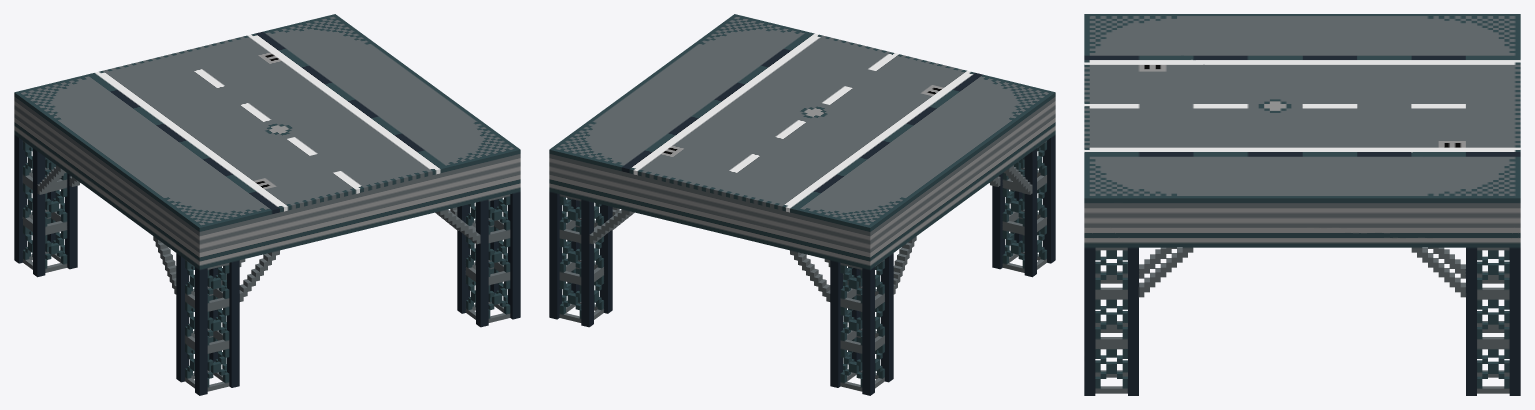
File: bridge_legs.glb
3 renders of one model, left to right at view 1: azimuth 30°, elevation 25°; view 2: azimuth 150°, elevation 25°; view 3: azimuth 270°, elevation 25°, orthographic. The views are drawn at different scales.
Visible parts, largest first — view 1: bridge_legs; view 2: bridge_legs; view 3: bridge_legs.
Part boxes in pixels (box(x1,y1,x2,y2)): bridge_legs: box(14, 14, 520, 395); bridge_legs: box(549, 14, 1055, 395); bridge_legs: box(1084, 14, 1520, 395).
Bounding box in the file's own units: 8 × 4 × 8.
1 material, 1 textured.
